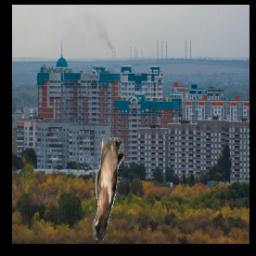Swallow: (91, 137, 123, 240)
